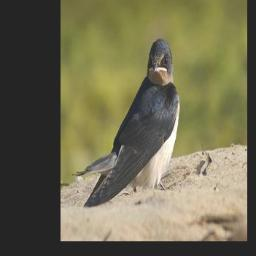Swallow: (71, 37, 180, 206)
